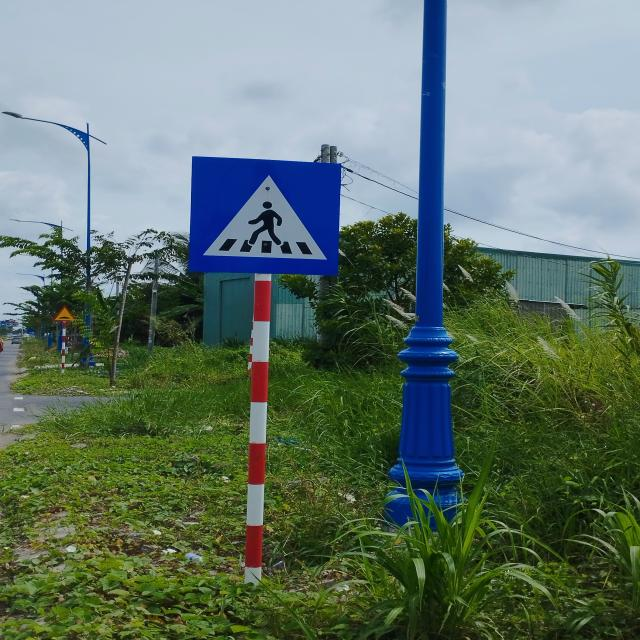Giao_Nhau_Duong_Uu_Tien: (190, 158, 340, 274)
